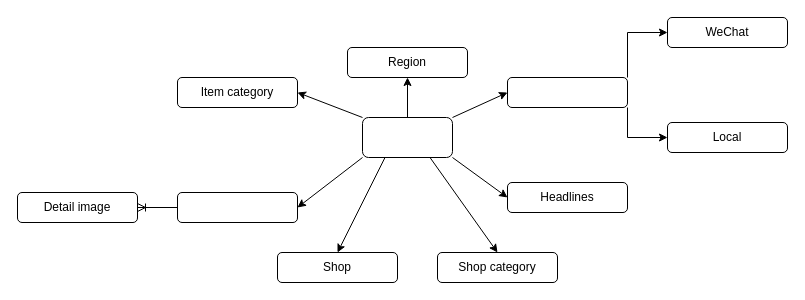
This 805x300 diagram has some shape labels left out. Here are the shapes that lost their labels. From the top down, the box of each, then its label:
(506, 76, 628, 108): User info
(362, 116, 452, 158): o2o
(176, 192, 298, 222): Items
